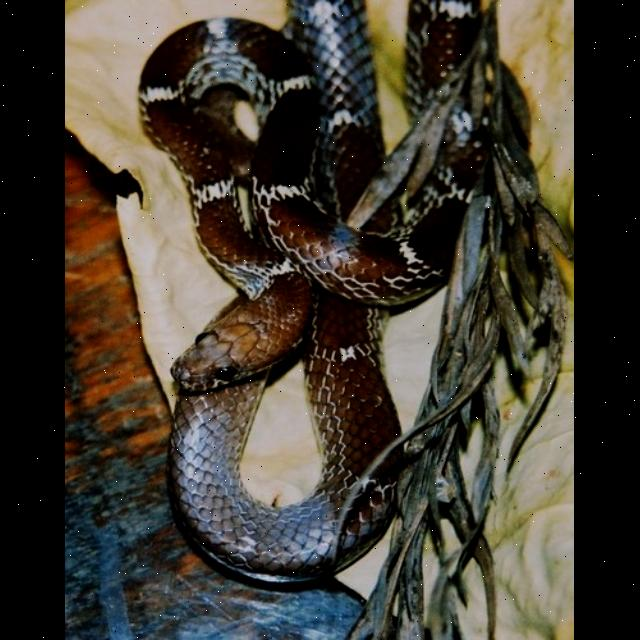snake: (141, 0, 488, 588)
